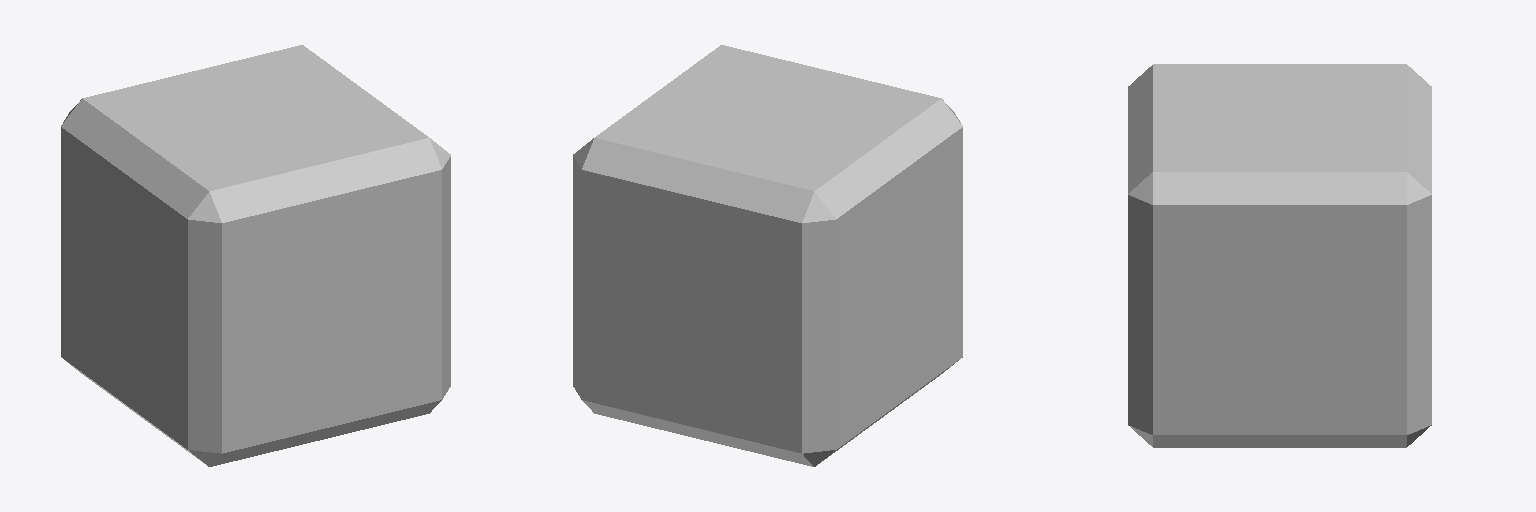
File: die.obj
The picture shows the model from 3 angles: view 1: azimuth 30°, elevation 25°; view 2: azimuth 150°, elevation 25°; view 3: azimuth 270°, elevation 25°; orthographic projection.
Visible parts, largest first — view 1: Cube; view 2: Cube; view 3: Cube.
Part boxes in pixels (x1,y1,x2,y2): Cube: (61,45,450,466); Cube: (573,45,962,466); Cube: (1128,64,1431,447).
Size of the model in its own units: 2 by 2 by 2.